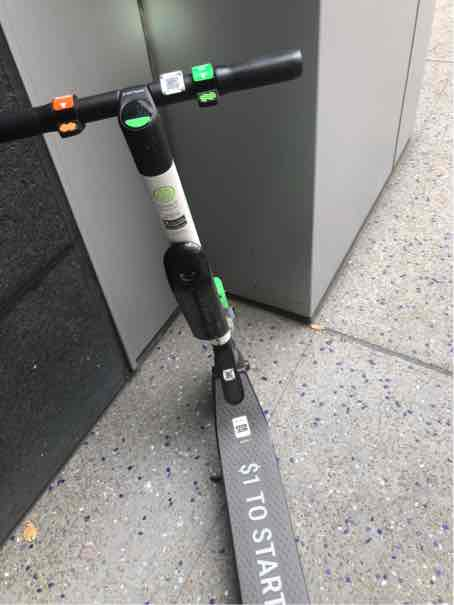scooter: (4, 66, 339, 605)
